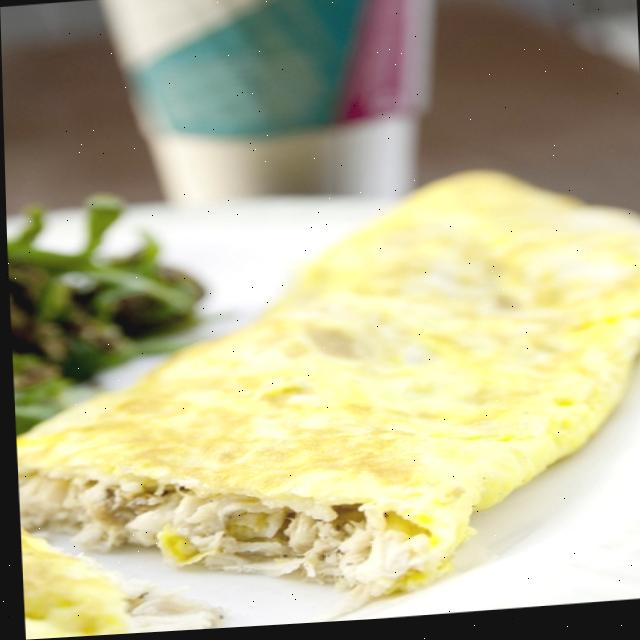鸡蛋料理: (95, 296, 358, 635)
